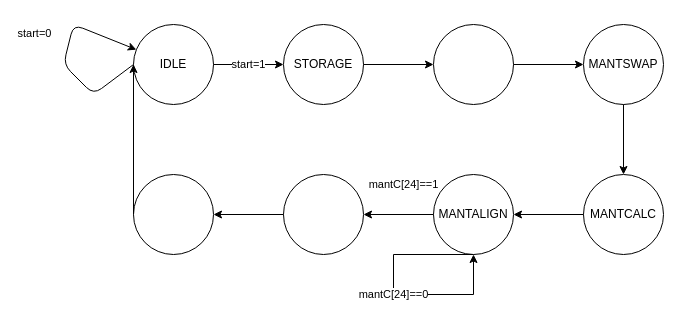
Some shapes in this 681 by 320 pixel diagram are drawn without their labels. The centre of each missing label's shape, as x and y in pixels:
"EXPALIGN" goes at (x=473, y=64).
"OUTPUT" goes at (x=323, y=214).
"STOP" goes at (x=173, y=214).
